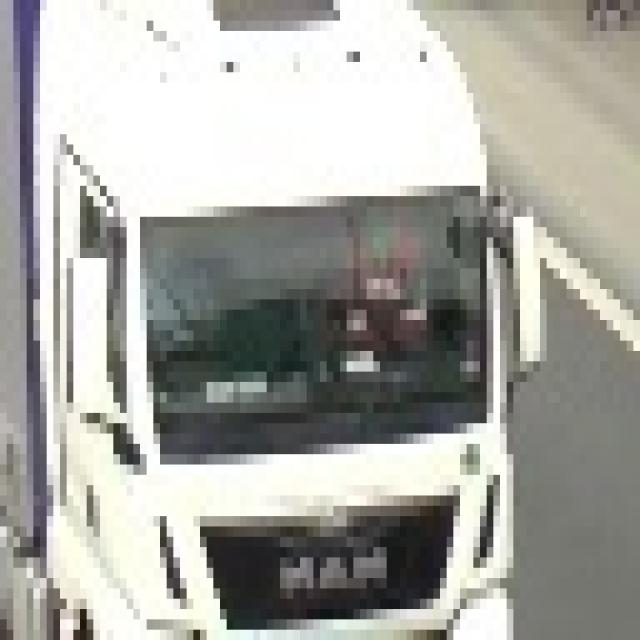TRUCK: (0, 5, 533, 634)
